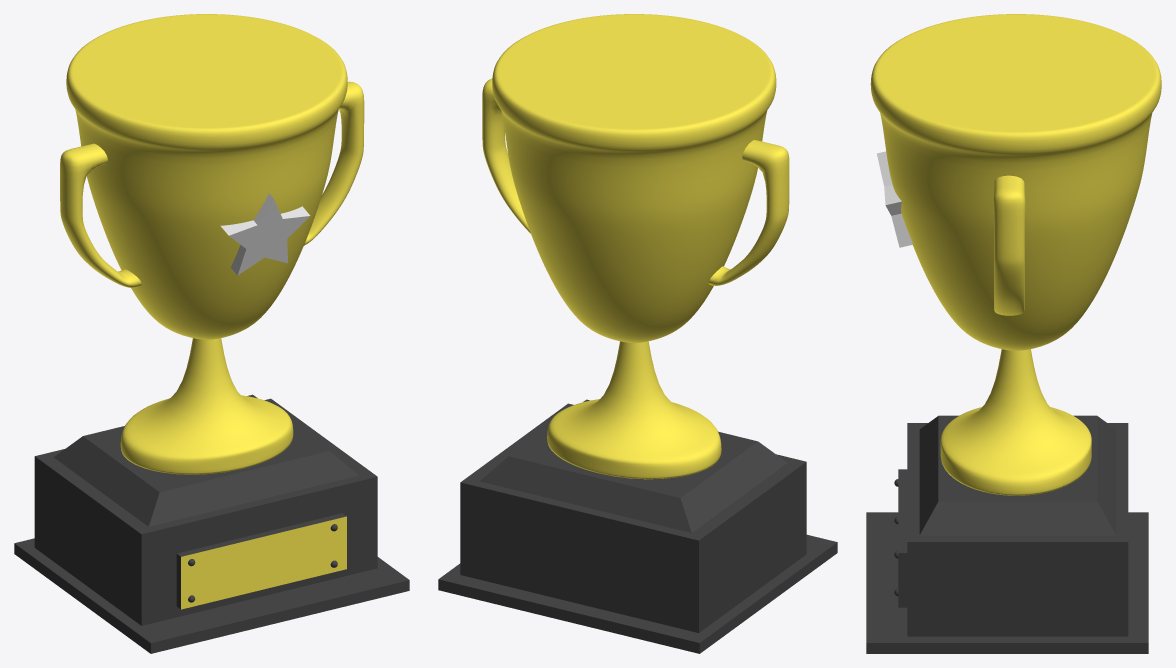
The model's file is trophy.glb.
3 views of the same model, side by side, from view 1: azimuth 30°, elevation 25°; view 2: azimuth 150°, elevation 25°; view 3: azimuth 270°, elevation 25° (orthographic). The views are drawn at different scales.
Parts seen in each view (by area): view 1: Cylinder; view 2: Cylinder; view 3: Cylinder.
Part boxes in pixels (box(x1,y1,x2,y2)): Cylinder: box(14, 14, 409, 653); Cylinder: box(438, 14, 837, 653); Cylinder: box(866, 14, 1161, 653).
Bounding box in the file's own units: 0.3325 × 0.5316 × 0.2765.
